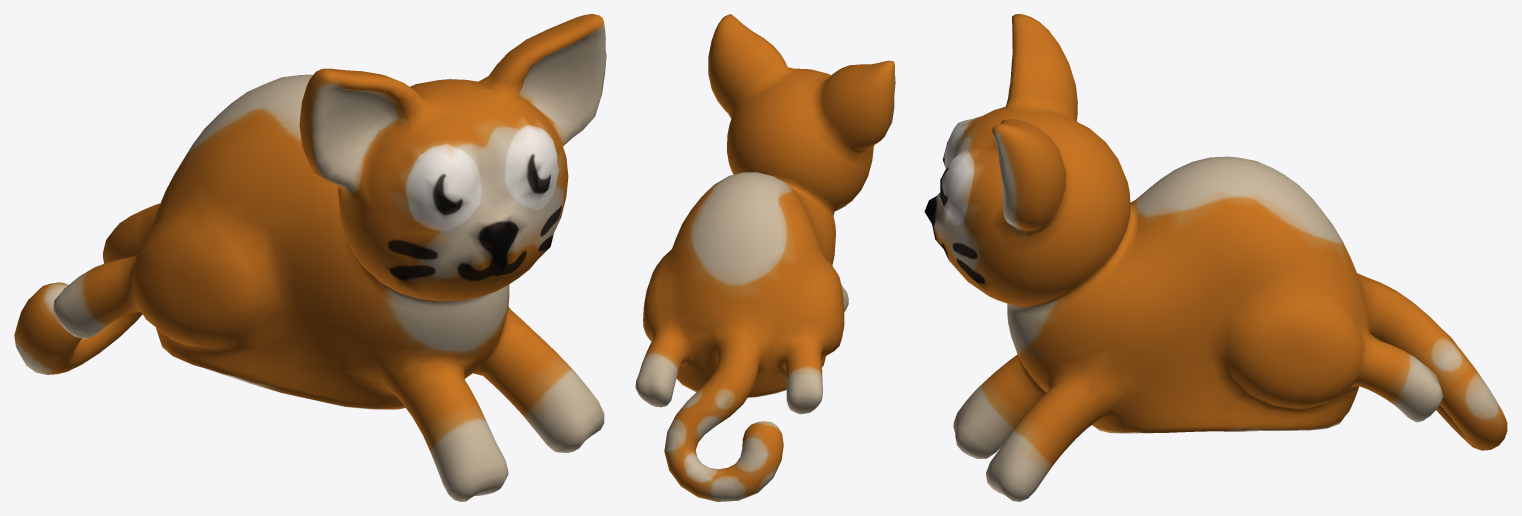
File: CatHat1.glb
3 renders of one model, left to right at view 1: azimuth 30°, elevation 25°; view 2: azimuth 150°, elevation 25°; view 3: azimuth 270°, elevation 25°, orthographic. The views are drawn at different scales.
Parts seen in each view (by area): view 1: CatHat1; view 2: CatHat1; view 3: CatHat1.
Boxes of the visible parts, x1,y1,x2,y2 form: CatHat1: (14, 14, 606, 501); CatHat1: (635, 14, 895, 501); CatHat1: (924, 14, 1507, 501).
Size of the model in its own units: 0.00711 by 0.00922 by 0.0114.
Materials: 1 (1 with a texture image).
